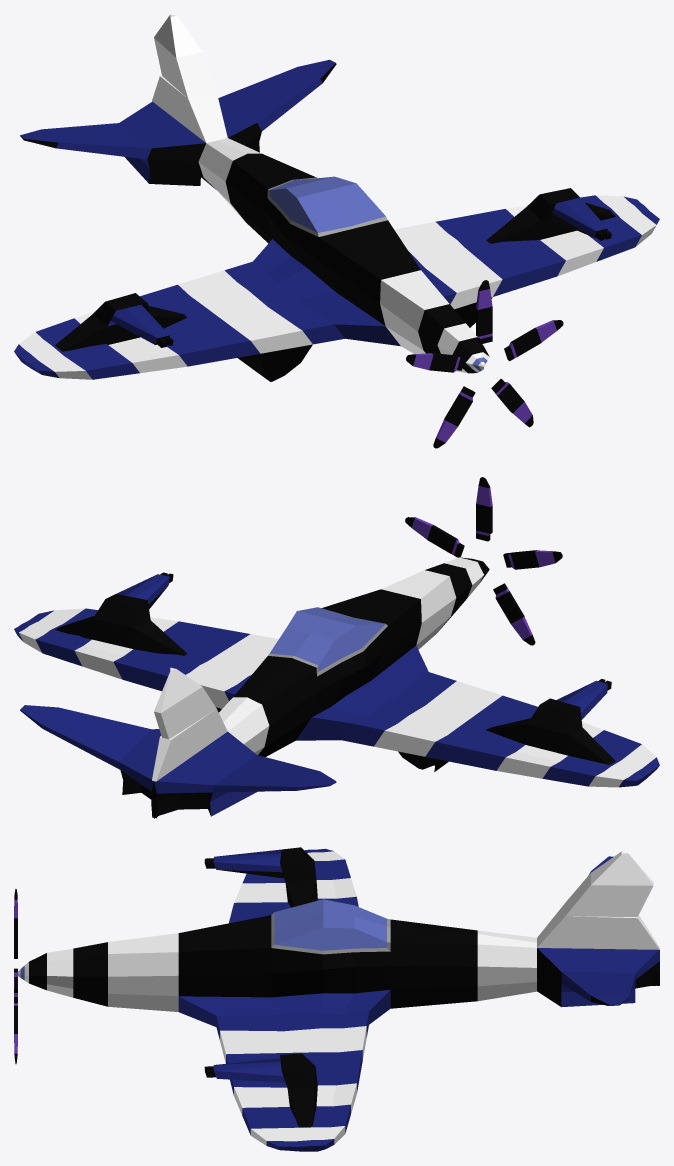
The model's file is SpitfireV2.fbx.
3 renders of one model, top to bottom at view 1: azimuth 30°, elevation 25°; view 2: azimuth 150°, elevation 25°; view 3: azimuth 270°, elevation 25°, orthographic. The views are drawn at different scales.
Visible parts, largest first — view 1: Ship, Propellar; view 2: Ship, Propellar; view 3: Ship, Propellar.
Boxes of the visible parts, x1=… form: Ship: x1=14, y1=14, x2=659, y2=381; Propellar: x1=406, y1=280, x2=563, y2=448; Ship: x1=14, y1=557, x2=659, y2=818; Propellar: x1=405, y1=477, x2=562, y2=645; Ship: x1=18, y1=847, x2=659, y2=1151; Propellar: x1=14, y1=889, x2=17, y2=1063.
Bounding box in the file's own units: 5.31 × 1.65 × 4.89.
